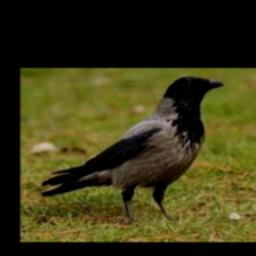Crow: (39, 76, 223, 221)
